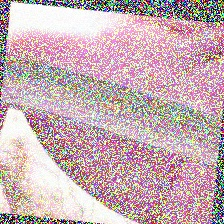Leaf_Blast: (5, 96, 218, 142)
